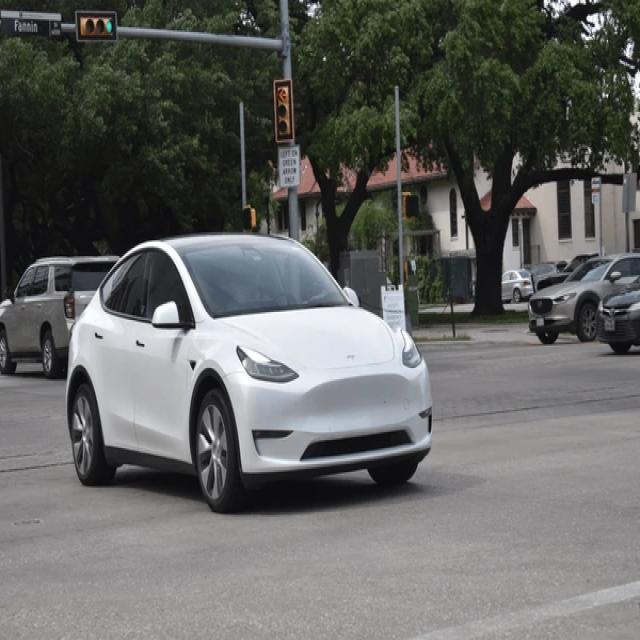tesla: (344, 348, 359, 366)
